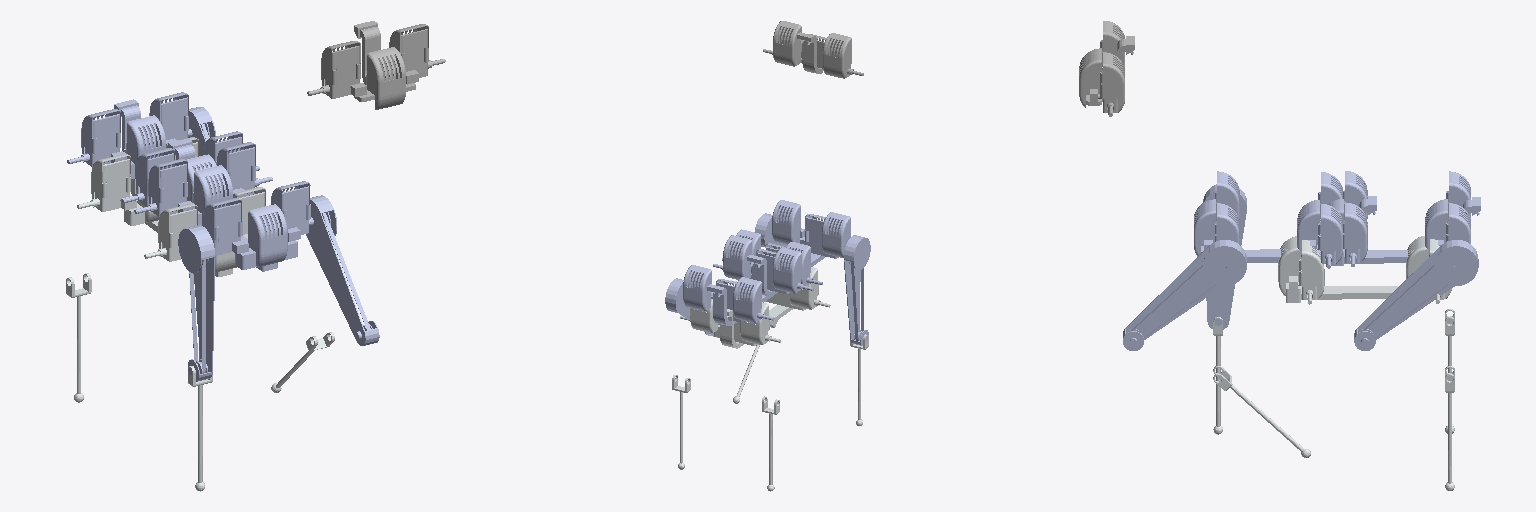
robot.urdf — ballfoot2:
<?xml version="1.0" encoding="utf-8"?>
<!-- This URDF was automatically created by SolidWorks to URDF Exporter! Originally created by [author] ([email redacted]) 
     Commit Version: 1.6.0-1-g15f4949  Build Version: 1.6.7594.29634
     For more information, please see http://wiki.ros.org/sw_urdf_exporter -->
<robot
  name="ballfoot2">
  <mujoco>
        <compiler 
        meshdir="."
        balanceinertia="false"
        discardvisual="false"/>
  </mujoco>
  <link
    name="base_link">
    <inertial>
      <origin
        xyz="-1.0545E-09 0.099713 0.048368"
        rpy="0 0 0" />
      <mass
        value="9.0856" />
      <inertia
        ixx="0.30511"
        ixy="1.56E-10"
        ixz="-7.2585E-10"
        iyy="0.038183"
        iyz="0.0005074"
        izz="0.30092" />
    </inertial>
    <visual>
      <origin
        xyz="0 0 0"
        rpy="0 0 0" />
      <geometry>
        <mesh
          filename="package://meshes/base_link.STL" />
      </geometry>
      <material
        name="">
        <color
          rgba="0.75294 0.75294 0.75294 1" />
      </material>
    </visual>
    <collision>
      <origin
        xyz="0 0 0"
        rpy="0 0 0" />
      <geometry>
        <mesh
          filename="package://meshes/base_link.STL" />
      </geometry>
    </collision>
  </link>
  <link
    name="flthigh">
    <inertial>
      <origin
        xyz="0.010372 -0.1751 -0.041995"
        rpy="0 0 0" />
      <mass
        value="2.1812" />
      <inertia
        ixx="0.066798"
        ixy="0.0036526"
        ixz="9.6406E-05"
        iyy="0.0053494"
        iyz="-0.0016276"
        izz="0.069854" />
    </inertial>
    <visual>
      <origin
        xyz="0 0 0"
        rpy="0 0 0" />
      <geometry>
        <mesh
          filename="package://meshes/flthigh.STL" />
      </geometry>
      <material
        name="">
        <color
          rgba="0.79216 0.81961 0.93333 1" />
      </material>
    </visual>
    <collision>
      <origin
        xyz="0 0 0"
        rpy="0 0 0" />
      <geometry>
        <mesh
          filename="package://meshes/flthigh.STL" />
      </geometry>
    </collision>
  </link>
  <joint
    name="flhip"
    type="revolute">
    <origin
      xyz="-0.339999999999146 0.600000000000487 0.0450000000000043"
      rpy="1.5707963267949 0.00556705998941409 -1.57079632679632" />
    <parent
      link="base_link" />
    <child
      link="flthigh" />
    <axis
      xyz="0 0 1" />
    <limit
      lower="-0.78"
      upper="0.78"
      effort="0"
      velocity="0" />
  </joint>
  <link
    name="flcalf">
    <inertial>
      <origin
        xyz="0.0013137 -0.23597 -0.035"
        rpy="0 0 0" />
      <mass
        value="0.91329" />
      <inertia
        ixx="0.037751"
        ixy="0.0002068"
        ixz="5.7725E-11"
        iyy="0.00060529"
        iyz="1.3275E-09"
        izz="0.037323" />
    </inertial>
    <visual>
      <origin
        xyz="0 0 0"
        rpy="0 0 0" />
      <geometry>
        <mesh
          filename="package://meshes/flcalf.STL" />
      </geometry>
      <material
        name="">
        <color
          rgba="0.89804 0.91765 0.92941 1" />
      </material>
    </visual>
    <collision>
      <origin
        xyz="0 0 0"
        rpy="0 0 0" />
      <geometry>
        <mesh
          filename="package://meshes/flcalf.STL" />
      </geometry>
    </collision>
  </link>
  <joint
    name="flknee"
    type="revolute">
    <origin
      xyz="0.0331125958881576 -0.55902017494322 0"
      rpy="0 0 0" />
    <parent
      link="flthigh" />
    <child
      link="flcalf" />
    <axis
      xyz="0 0 1" />
    <limit
      lower="-0.78"
      upper="0.78"
      effort="0"
      velocity="0" />
  </joint>
  <link
    name="frthigh">
    <inertial>
      <origin
        xyz="0.010372 -0.1751 0.041995"
        rpy="0 0 0" />
      <mass
        value="2.1812" />
      <inertia
        ixx="0.066798"
        ixy="0.0036526"
        ixz="-9.6406E-05"
        iyy="0.0053494"
        iyz="0.0016276"
        izz="0.069854" />
    </inertial>
    <visual>
      <origin
        xyz="0 0 0"
        rpy="0 0 0" />
      <geometry>
        <mesh
          filename="package://meshes/frthigh.STL" />
      </geometry>
      <material
        name="">
        <color
          rgba="0.79216 0.81961 0.93333 1" />
      </material>
    </visual>
    <collision>
      <origin
        xyz="0 0 0"
        rpy="0 0 0" />
      <geometry>
        <mesh
          filename="package://meshes/frthigh.STL" />
      </geometry>
    </collision>
  </link>
  <joint
    name="frhip"
    type="revolute">
    <origin
      xyz="0.340000000000854 0.59999999999952 0.0450000000000046"
      rpy="1.5707963267949 0.00556705998941409 -1.57079632679632" />
    <parent
      link="base_link" />
    <child
      link="frthigh" />
    <axis
      xyz="0 0 -1" />
    <limit
      lower="-0.78"
      upper="0.78"
      effort="0"
      velocity="0" />
  </joint>
  <link
    name="frcalf">
    <inertial>
      <origin
        xyz="0.0013137 -0.23597 0.035"
        rpy="0 0 0" />
      <mass
        value="0.91329" />
      <inertia
        ixx="0.037751"
        ixy="0.0002068"
        ixz="5.7726E-11"
        iyy="0.00060529"
        iyz="1.3275E-09"
        izz="0.037323" />
    </inertial>
    <visual>
      <origin
        xyz="0 0 0"
        rpy="0 0 0" />
      <geometry>
        <mesh
          filename="package://meshes/frcalf.STL" />
      </geometry>
      <material
        name="">
        <color
          rgba="0.89804 0.91765 0.92941 1" />
      </material>
    </visual>
    <collision>
      <origin
        xyz="0 0 0"
        rpy="0 0 0" />
      <geometry>
        <mesh
          filename="package://meshes/frcalf.STL" />
      </geometry>
    </collision>
  </link>
  <joint
    name="frknee"
    type="revolute">
    <origin
      xyz="0.0331125958881943 -0.559020174943217 0"
      rpy="0 0 0" />
    <parent
      link="frthigh" />
    <child
      link="frcalf" />
    <axis
      xyz="0 0 -1" />
    <limit
      lower="-0.78"
      upper="0.78"
      effort="0"
      velocity="0" />
  </joint>
  <link
    name="blthigh">
    <inertial>
      <origin
        xyz="0.010372 -0.1751 -0.041995"
        rpy="0 0 0" />
      <mass
        value="2.1812" />
      <inertia
        ixx="0.066798"
        ixy="0.0036526"
        ixz="9.6406E-05"
        iyy="0.0053494"
        iyz="-0.0016276"
        izz="0.069854" />
    </inertial>
    <visual>
      <origin
        xyz="0 0 0"
        rpy="0 0 0" />
      <geometry>
        <mesh
          filename="package://meshes/blthigh.STL" />
      </geometry>
      <material
        name="">
        <color
          rgba="0.79216 0.81961 0.93333 1" />
      </material>
    </visual>
    <collision>
      <origin
        xyz="0 0 0"
        rpy="0 0 0" />
      <geometry>
        <mesh
          filename="package://meshes/blthigh.STL" />
      </geometry>
    </collision>
  </link>
  <joint
    name="blhip"
    type="revolute">
    <origin
      xyz="-0.340000000000641 -0.449999999999507 0.0450000000000099"
      rpy="1.5707963267949 0.00556705998941409 -1.57079632679632" />
    <parent
      link="base_link" />
    <child
      link="blthigh" />
    <axis
      xyz="0 0 1" />
    <limit
      lower="-0.78"
      upper="0.78"
      effort="0"
      velocity="0" />
  </joint>
  <link
    name="blcalf">
    <inertial>
      <origin
        xyz="0.0013137 -0.23597 -0.035"
        rpy="0 0 0" />
      <mass
        value="0.91329" />
      <inertia
        ixx="0.037751"
        ixy="0.0002068"
        ixz="-4.859E-11"
        iyy="0.00060529"
        iyz="-1.6642E-10"
        izz="0.037323" />
    </inertial>
    <visual>
      <origin
        xyz="0 0 0"
        rpy="0 0 0" />
      <geometry>
        <mesh
          filename="package://meshes/blcalf.STL" />
      </geometry>
      <material
        name="">
        <color
          rgba="0.89804 0.91765 0.92941 1" />
      </material>
    </visual>
    <collision>
      <origin
        xyz="0 0 0"
        rpy="0 0 0" />
      <geometry>
        <mesh
          filename="package://meshes/blcalf.STL" />
      </geometry>
    </collision>
  </link>
  <joint
    name="blknee"
    type="revolute">
    <origin
      xyz="0.033112595888158 -0.55902017494322 0"
      rpy="0 0 0" />
    <parent
      link="blthigh" />
    <child
      link="blcalf" />
    <axis
      xyz="0 0 1" />
    <limit
      lower="-0.78"
      upper="0.78"
      effort="0"
      velocity="0" />
  </joint>
  <link
    name="brthigh">
    <inertial>
      <origin
        xyz="0.010372 -0.1751 0.041995"
        rpy="0 0 0" />
      <mass
        value="2.1812" />
      <inertia
        ixx="0.066798"
        ixy="0.0036526"
        ixz="-9.6406E-05"
        iyy="0.0053494"
        iyz="0.0016276"
        izz="0.069854" />
    </inertial>
    <visual>
      <origin
        xyz="0 0 0"
        rpy="0 0 0" />
      <geometry>
        <mesh
          filename="package://meshes/brthigh.STL" />
      </geometry>
      <material
        name="">
        <color
          rgba="0.79216 0.81961 0.93333 1" />
      </material>
    </visual>
    <collision>
      <origin
        xyz="0 0 0"
        rpy="0 0 0" />
      <geometry>
        <mesh
          filename="package://meshes/brthigh.STL" />
      </geometry>
    </collision>
  </link>
  <joint
    name="brhip"
    type="revolute">
    <origin
      xyz="0.339999999999359 -0.450000000000473 0.0450000000000098"
      rpy="1.5707963267949 0.00556705998941409 -1.57079632679632" />
    <parent
      link="base_link" />
    <child
      link="brthigh" />
    <axis
      xyz="0 0 -1" />
    <limit
      lower="-0.78"
      upper="0.78"
      effort="0"
      velocity="0" />
  </joint>
  <link
    name="brcalf">
    <inertial>
      <origin
        xyz="0.0013137 -0.23597 0.035"
        rpy="0 0 0" />
      <mass
        value="0.91329" />
      <inertia
        ixx="0.037751"
        ixy="0.0002068"
        ixz="-8.4581E-11"
        iyy="0.00060529"
        iyz="-1.2422E-09"
        izz="0.037323" />
    </inertial>
    <visual>
      <origin
        xyz="0 0 0"
        rpy="0 0 0" />
      <geometry>
        <mesh
          filename="package://meshes/brcalf.STL" />
      </geometry>
      <material
        name="">
        <color
          rgba="0.89804 0.91765 0.92941 1" />
      </material>
    </visual>
    <collision>
      <origin
        xyz="0 0 0"
        rpy="0 0 0" />
      <geometry>
        <mesh
          filename="package://meshes/brcalf.STL" />
      </geometry>
    </collision>
  </link>
  <joint
    name="brknee"
    type="revolute">
    <origin
      xyz="0.0331125958881942 -0.559020174943218 0"
      rpy="0 0 0" />
    <parent
      link="brthigh" />
    <child
      link="brcalf" />
    <axis
      xyz="0 0 -1" />
    <limit
      lower="-0.78"
      upper="0.78"
      effort="0"
      velocity="0" />
  </joint>
</robot>

--- Render facts (derived) ---
The picture shows the robot from 3 angles, left to right: view 1: azimuth 30°, elevation 25°; view 2: azimuth 150°, elevation 25°; view 3: azimuth 270°, elevation 25°; orthographic projection.
Robot: ballfoot2 — 9 links, 8 joints (8 revolute); root link base_link; default pose: all joints at 0.
Visible links, largest first — view 1: brthigh, frthigh, base_link, brcalf, blthigh, flcalf, blcalf; view 2: brthigh, frthigh, brcalf, base_link, blthigh, flcalf; view 3: frthigh, brthigh, brcalf, base_link, blthigh, frcalf, blcalf.
Boxes of the visible links, x1=… form: brthigh: x1=122, y1=131, x2=379, y2=345; frthigh: x1=67, y1=92, x2=272, y2=225; base_link: x1=307, y1=21, x2=445, y2=109; brcalf: x1=77, y1=137, x2=334, y2=392; blthigh: x1=178, y1=225, x2=214, y2=381; flcalf: x1=66, y1=273, x2=91, y2=402; blcalf: x1=188, y1=366, x2=212, y2=491; brthigh: x1=713, y1=200, x2=862, y2=296; frthigh: x1=665, y1=229, x2=822, y2=337; brcalf: x1=680, y1=267, x2=830, y2=403; base_link: x1=763, y1=21, x2=863, y2=78; blthigh: x1=844, y1=235, x2=870, y2=345; flcalf: x1=762, y1=396, x2=779, y2=491; frthigh: x1=1297, y1=171, x2=1480, y2=350; brthigh: x1=1123, y1=171, x2=1376, y2=350; brcalf: x1=1213, y1=218, x2=1451, y2=457; base_link: x1=1079, y1=21, x2=1134, y2=116; blthigh: x1=1203, y1=184, x2=1246, y2=329; frcalf: x1=1445, y1=366, x2=1454, y2=490; blcalf: x1=1213, y1=317, x2=1222, y2=434.
Size in the robot's own frame: 0.9881 by 1.82 by 2.25 metres.
Meshes: 9 distinct files referenced, 8 mesh visuals loaded (8 binary STL); not drawn: 1 (reference not matched to a file when rendering).